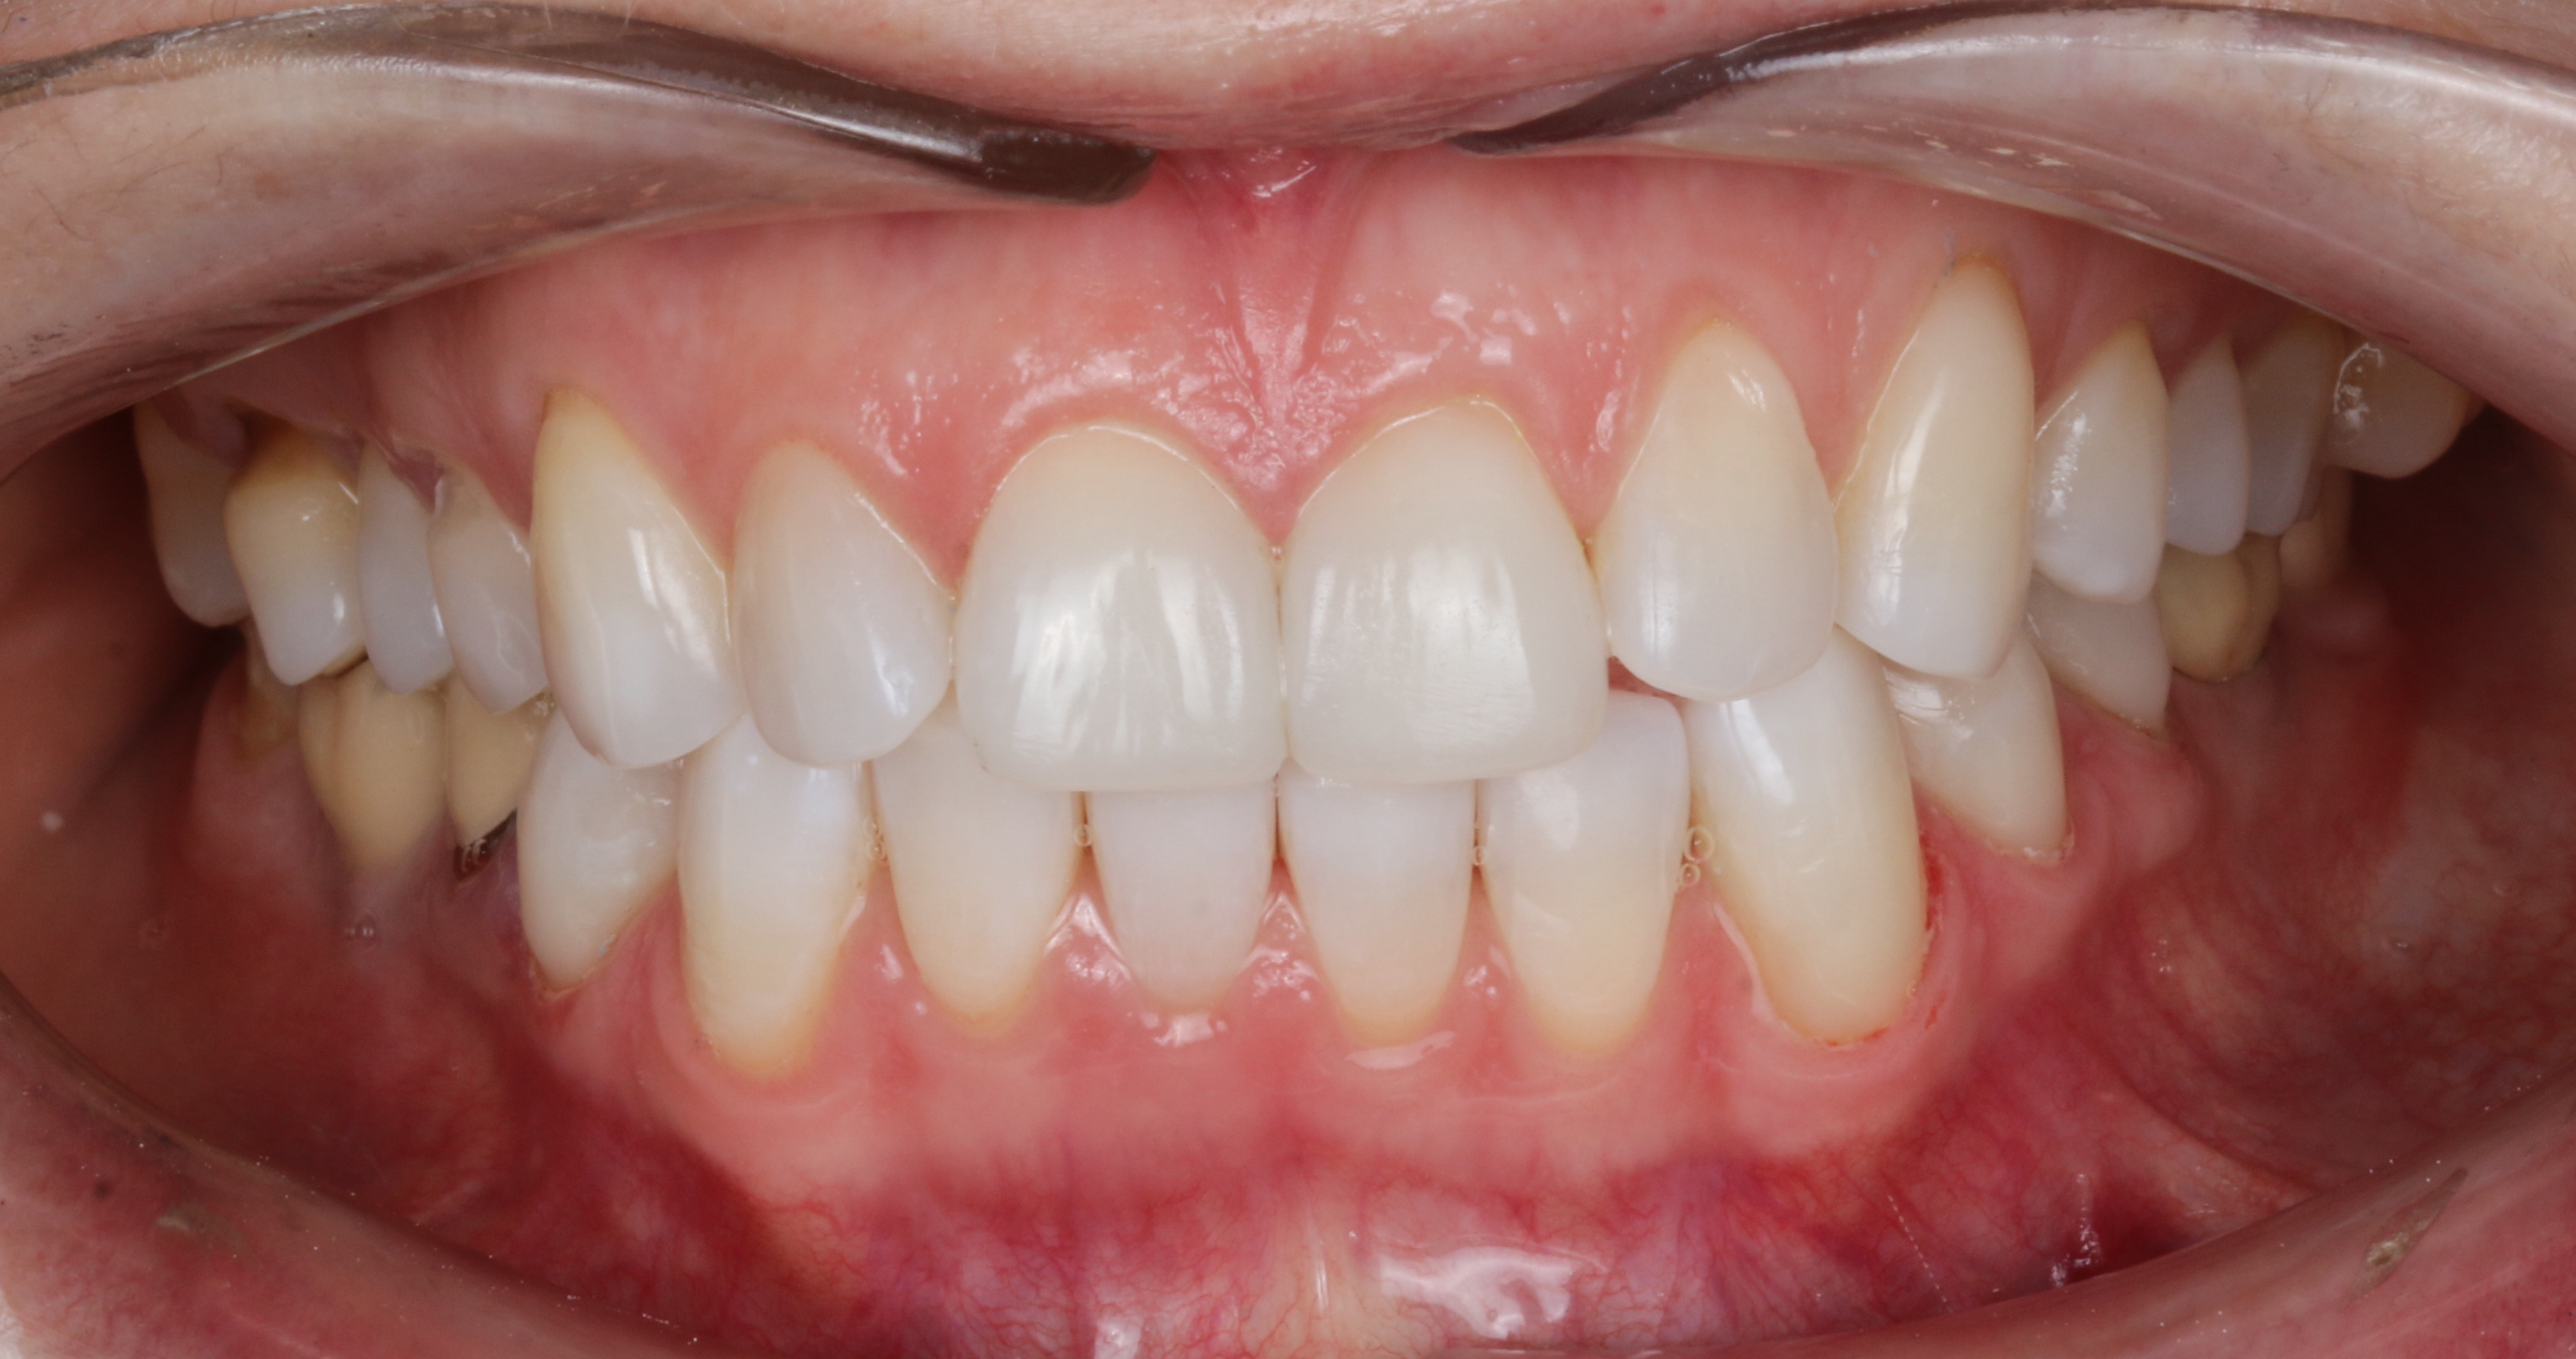LL1BC_healthy: (1905, 672, 2065, 868)
LL1M_decay: (2169, 554, 2271, 677)
LL2BC_healthy: (2046, 597, 2160, 733)
LLCI_healthy: (1276, 783, 1472, 1040)
LLC_healthy: (1692, 701, 1925, 1028)
LLLI_healthy: (1484, 776, 1690, 1035)
LR1BC_healthy: (518, 745, 671, 980)
LR1M_healthy: (300, 682, 441, 863)
LR2BC_decay: (453, 713, 516, 873)
LRCI_healthy: (1089, 789, 1278, 994)
LRC_healthy: (678, 762, 867, 1067)
LRLI_healthy: (881, 764, 1077, 1016)
UL1BC_healthy: (2034, 327, 2164, 597)
UL1M_healthy: (2251, 327, 2327, 544)
UL2BC_healthy: (2167, 343, 2247, 556)
UL2M_healthy: (2331, 341, 2465, 477)
ULCI_healthy: (1283, 406, 1610, 779)
ULC_healthy: (1833, 266, 2031, 677)
ULLI_healthy: (1607, 327, 1833, 699)
UR1BC_healthy: (428, 476, 542, 711)
UR1M_healthy: (230, 443, 363, 672)
UR2BC_healthy: (358, 457, 441, 687)
UR2M_healthy: (138, 418, 232, 626)
URCI_healthy: (954, 428, 1281, 786)
URC_healthy: (535, 404, 734, 766)
URLI_healthy: (736, 447, 949, 757)
